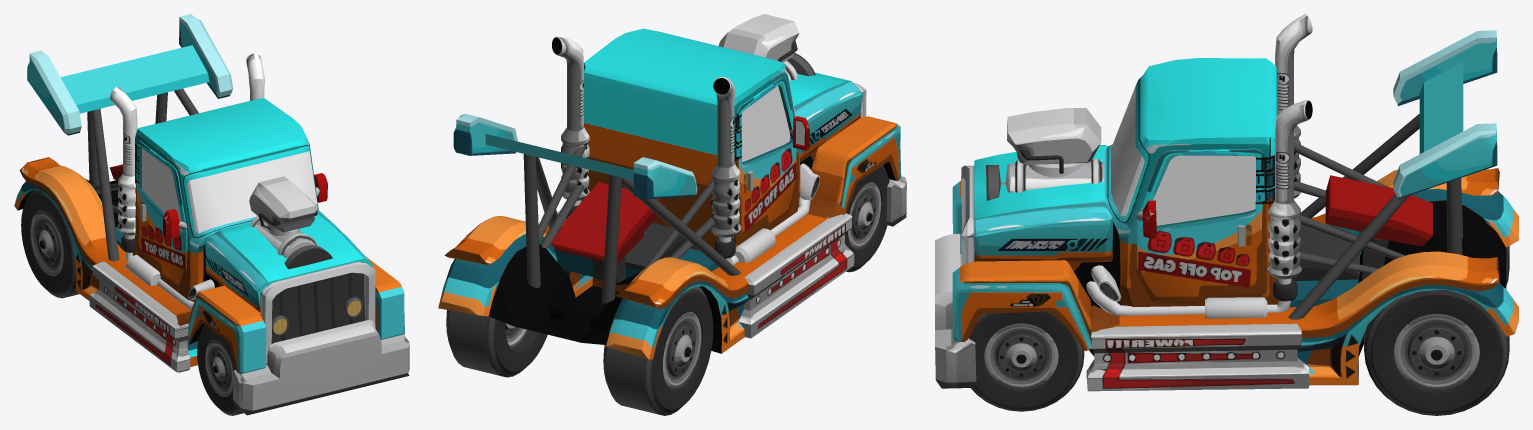
Rendered from car.glb.
3 renders of one model, left to right at view 1: azimuth 30°, elevation 25°; view 2: azimuth 150°, elevation 25°; view 3: azimuth 270°, elevation 25°, orthographic. The views are drawn at different scales.
Visible parts, largest first — view 1: HCR2_RT_Body, HCR2_RT_Spoiler, HCR2_RT_Bumper, HCR2_RT_Details, HCR2_RT_Right_Door, HCR2_RT_Window, HCR2_RT_Exhausts, HCR2_RT_Engine, HCR2_RT_RR_Wheel, HCR2_RT_FR_Wheel, HCR2_RT_Lights; view 2: HCR2_RT_Body, HCR2_RT_Details, HCR2_RT_Spoiler, HCR2_RT_Exhausts, HCR2_RT_Right_Door, HCR2_RT_RR_Wheel, HCR2_RT_Chassis, HCR2_RT_RL_Wheel, HCR2_RT_Engine, HCR2_RT_FR_Wheel, HCR2_RT_Bumper, HCR2_RT_Susp; view 3: HCR2_RT_Body, HCR2_RT_Details, HCR2_RT_Left_Door, HCR2_RT_Spoiler, HCR2_RT_RL_Wheel, HCR2_RT_Exhausts, HCR2_RT_FL_Wheel, HCR2_RT_Engine, HCR2_RT_Bumper, HCR2_RT_Chassis, HCR2_RT_Window.
Part boxes in pixels (<box>): HCR2_RT_Body: <box>14,98,404,374</box>; HCR2_RT_Spoiler: <box>27,14,232,261</box>; HCR2_RT_Bumper: <box>233,320,409,415</box>; HCR2_RT_Details: <box>89,164,375,372</box>; HCR2_RT_Right_Door: <box>135,140,187,290</box>; HCR2_RT_Window: <box>187,151,317,233</box>; HCR2_RT_Exhausts: <box>110,53,264,310</box>; HCR2_RT_Engine: <box>249,176,332,269</box>; HCR2_RT_RR_Wheel: <box>21,190,79,298</box>; HCR2_RT_FR_Wheel: <box>197,325,267,415</box>; HCR2_RT_Lights: <box>272,297,363,335</box>; HCR2_RT_Body: <box>438,28,901,359</box>; HCR2_RT_Details: <box>538,82,866,338</box>; HCR2_RT_Spoiler: <box>453,113,740,303</box>; HCR2_RT_Exhausts: <box>552,36,819,265</box>; HCR2_RT_Right_Door: <box>734,78,809,243</box>; HCR2_RT_RR_Wheel: <box>603,286,713,415</box>; HCR2_RT_Chassis: <box>489,243,639,344</box>; HCR2_RT_RL_Wheel: <box>446,284,547,377</box>; HCR2_RT_Engine: <box>718,14,815,80</box>; HCR2_RT_FR_Wheel: <box>845,165,889,272</box>; HCR2_RT_Bumper: <box>886,176,906,226</box>; HCR2_RT_Susp: <box>548,302,601,327</box>; HCR2_RT_Body: <box>952,58,1518,385</box>; HCR2_RT_Details: <box>961,142,1432,391</box>; HCR2_RT_Left_Door: <box>1136,148,1267,303</box>; HCR2_RT_Spoiler: <box>1288,30,1497,319</box>; HCR2_RT_RL_Wheel: <box>1364,289,1509,415</box>; HCR2_RT_Exhausts: <box>1086,14,1312,318</box>; HCR2_RT_FL_Wheel: <box>969,311,1084,411</box>; HCR2_RT_Engine: <box>986,108,1104,200</box>; HCR2_RT_Bumper: <box>935,233,976,388</box>; HCR2_RT_Chassis: <box>1089,200,1506,356</box>; HCR2_RT_Window: <box>1111,86,1144,216</box>.
Size of the model in its own units: 2.32 by 2.84 by 4.88.
Materials: 3 (2 with a texture image).
